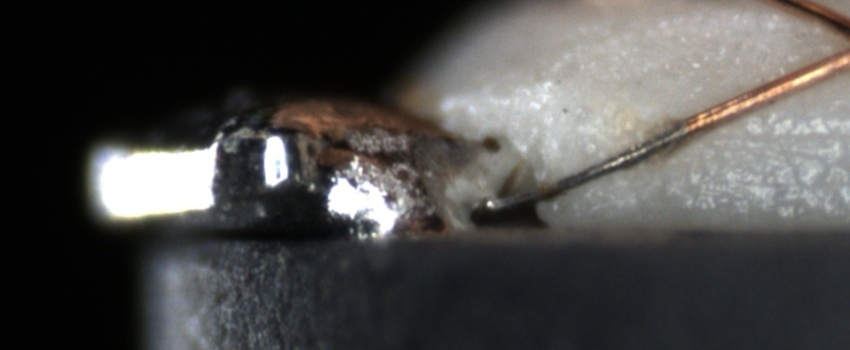CL: (828, 14, 850, 70)
DL: (697, 108, 850, 172)
TS: (483, 123, 685, 210)
TTCW: (484, 101, 736, 215)
